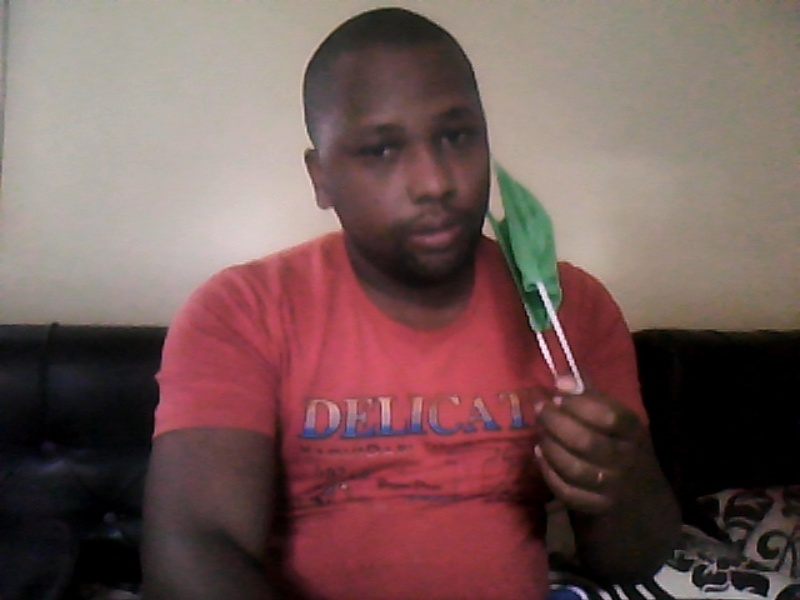TsisyArotava: (291, 9, 507, 281)
